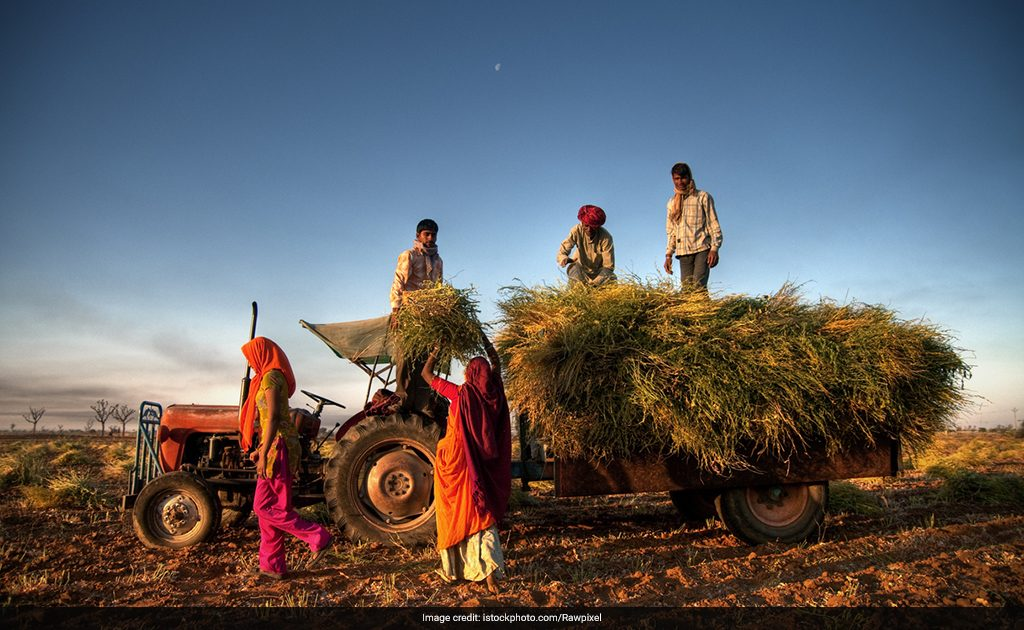NOTSAFE: (443, 360, 504, 478), (241, 334, 292, 465), (665, 155, 715, 253), (403, 211, 449, 286), (573, 200, 612, 272)
